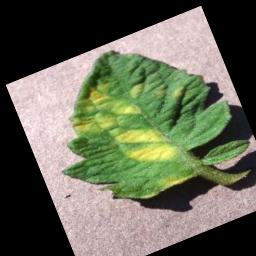Leaf_Mold: (57, 58, 185, 192), (136, 164, 197, 200)
